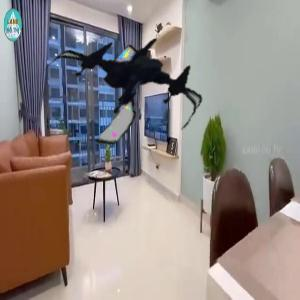drone: (57, 13, 202, 158)
